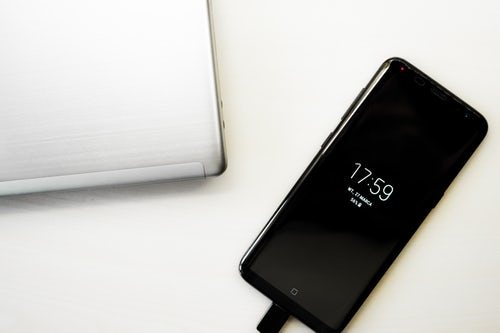phone: (239, 57, 488, 333)
